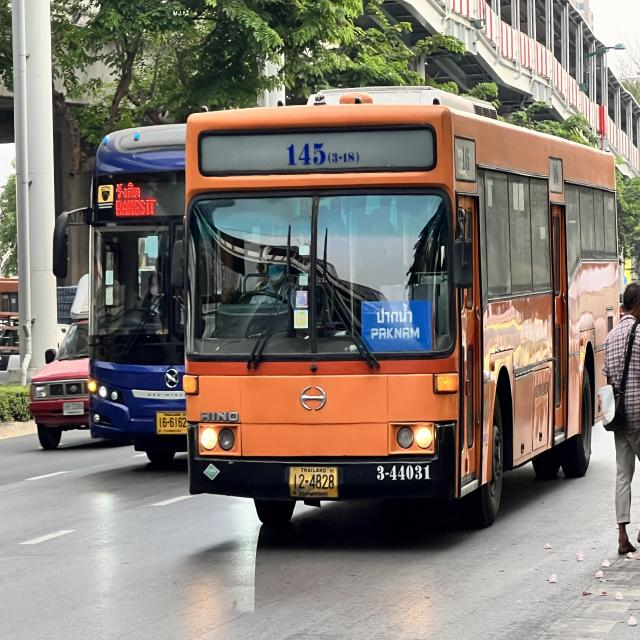BMTA-bus: (166, 75, 624, 534)
Bus-Line-Number: (281, 138, 361, 169)
Destination-Sign-Normal: (362, 304, 434, 356), (115, 180, 162, 220)
TSB-Bus: (84, 119, 190, 459)
